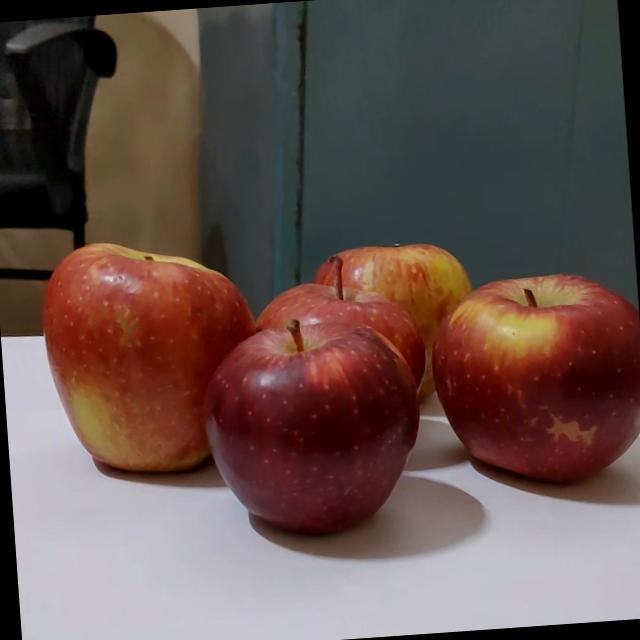apple: (42, 246, 266, 494), (404, 287, 640, 514), (174, 321, 400, 555), (242, 264, 424, 482), (328, 247, 492, 434)
